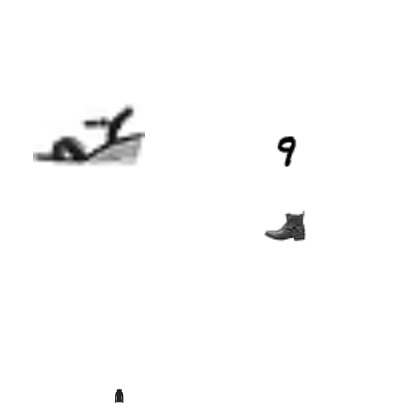9: (266, 126, 308, 168)
Ankle_boot: (264, 205, 306, 247)
Coat: (112, 389, 126, 403)
Sandal: (33, 77, 145, 189)
